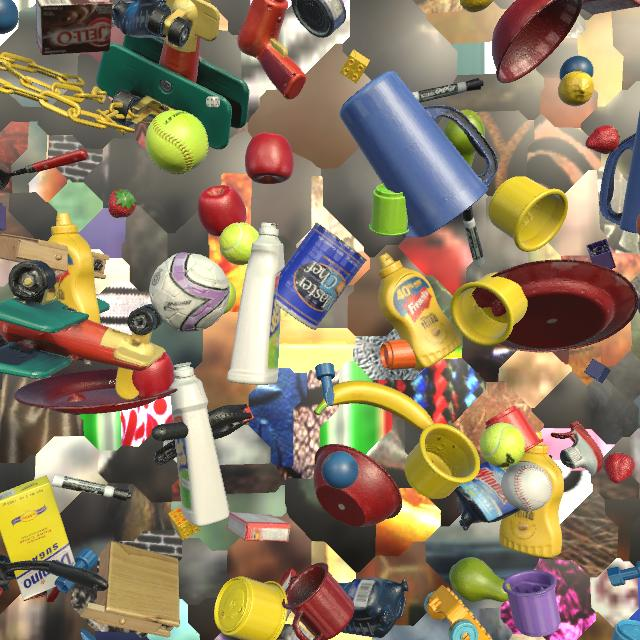ycb_002_master_chef_can: (276, 222, 367, 330)
ycb_004_sugar_box: (0, 475, 76, 600)
ycb_006_mustard_bottle: (378, 253, 463, 371), (499, 431, 564, 558), (48, 213, 100, 324)
ycb_007_tuna_fish_can: (291, 0, 346, 38)
ycb_008_pudding_box: (36, 0, 113, 55)
ycb_009_gelatin_box: (227, 512, 291, 542), (581, 0, 640, 15)
ycb_011_banana: (314, 380, 434, 431)
ycb_012_strawberry: (585, 125, 621, 154), (603, 452, 635, 483), (108, 189, 137, 218)
ycb_013_apple: (197, 185, 247, 236), (245, 133, 294, 184), (132, 352, 175, 399), (277, 639, 286, 640)
ycb_014_lemon: (558, 71, 594, 106), (460, 0, 494, 12)
ycb_016_pear: (449, 557, 512, 602), (443, 110, 485, 167)
ycb_017_orange: (636, 214, 640, 236)
ycb_018_plum: (638, 297, 640, 314)
